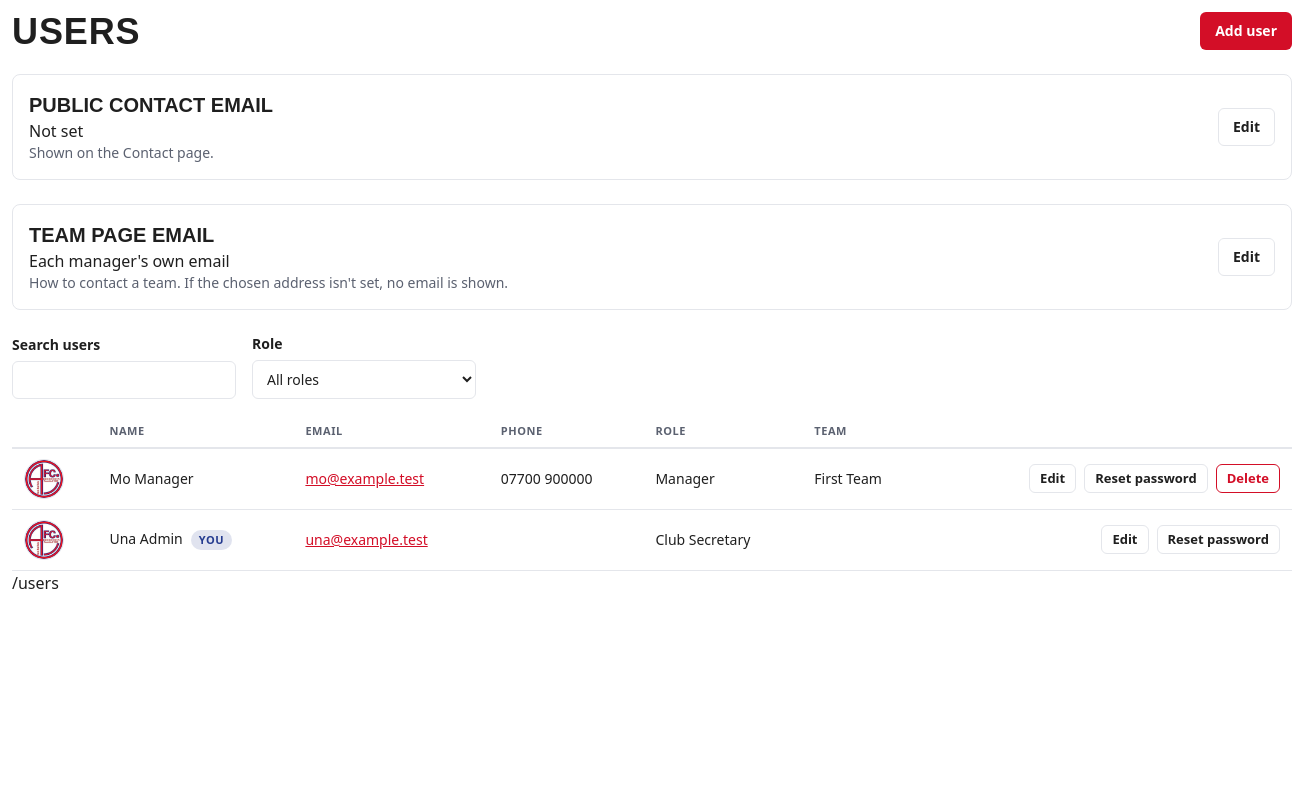
Scenario: UsersPage access and table › filters by role and search, kept in the address
expect the text "Mo Manager" is shown: met, box [110,469,194,488]
Select "Manager" in the dropdown labelled "Role" at (364, 380), box [252,360,476,399]
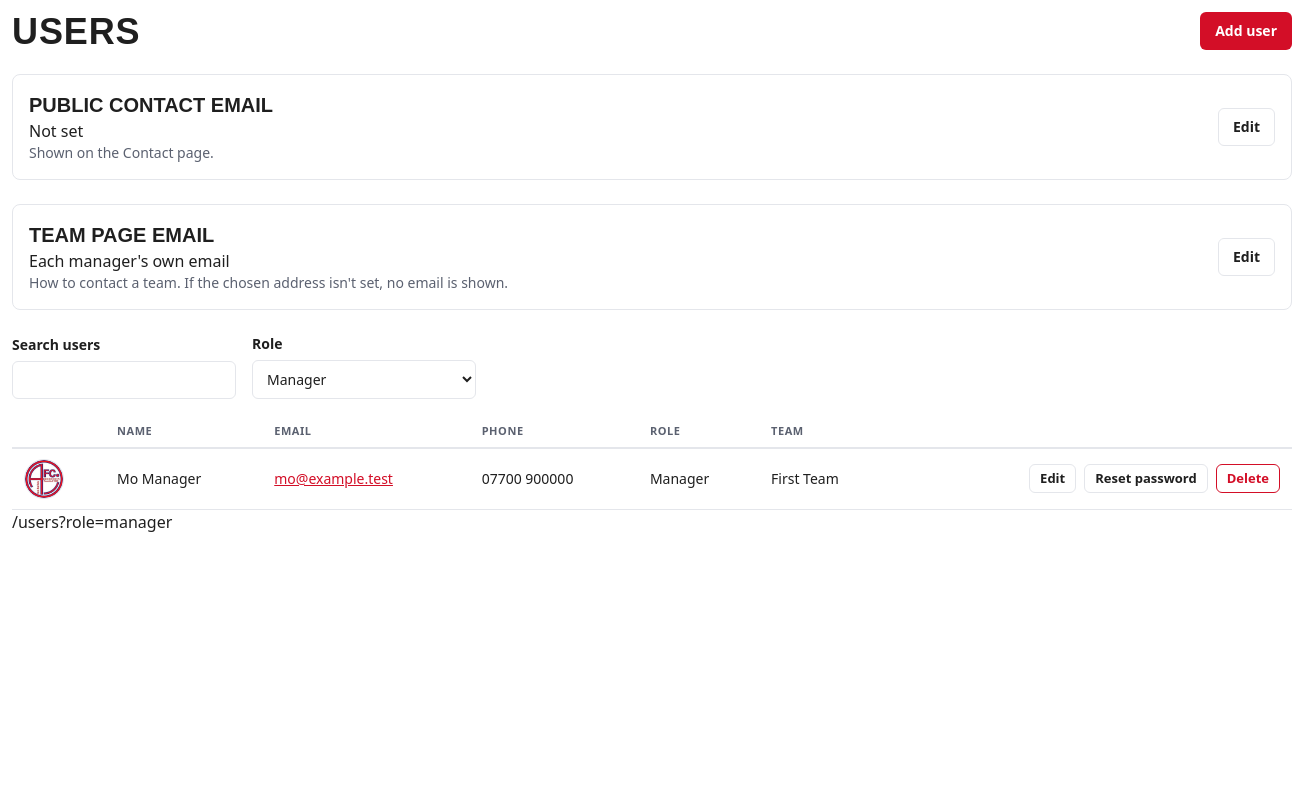
expect the text "Una Admin" is gone: met
expect the text with test id "location" shows "role=manager": met, box [12,511,172,533]
Type "zzz" into the search field labelled "Search users" at (124, 380), box [12,361,236,399]
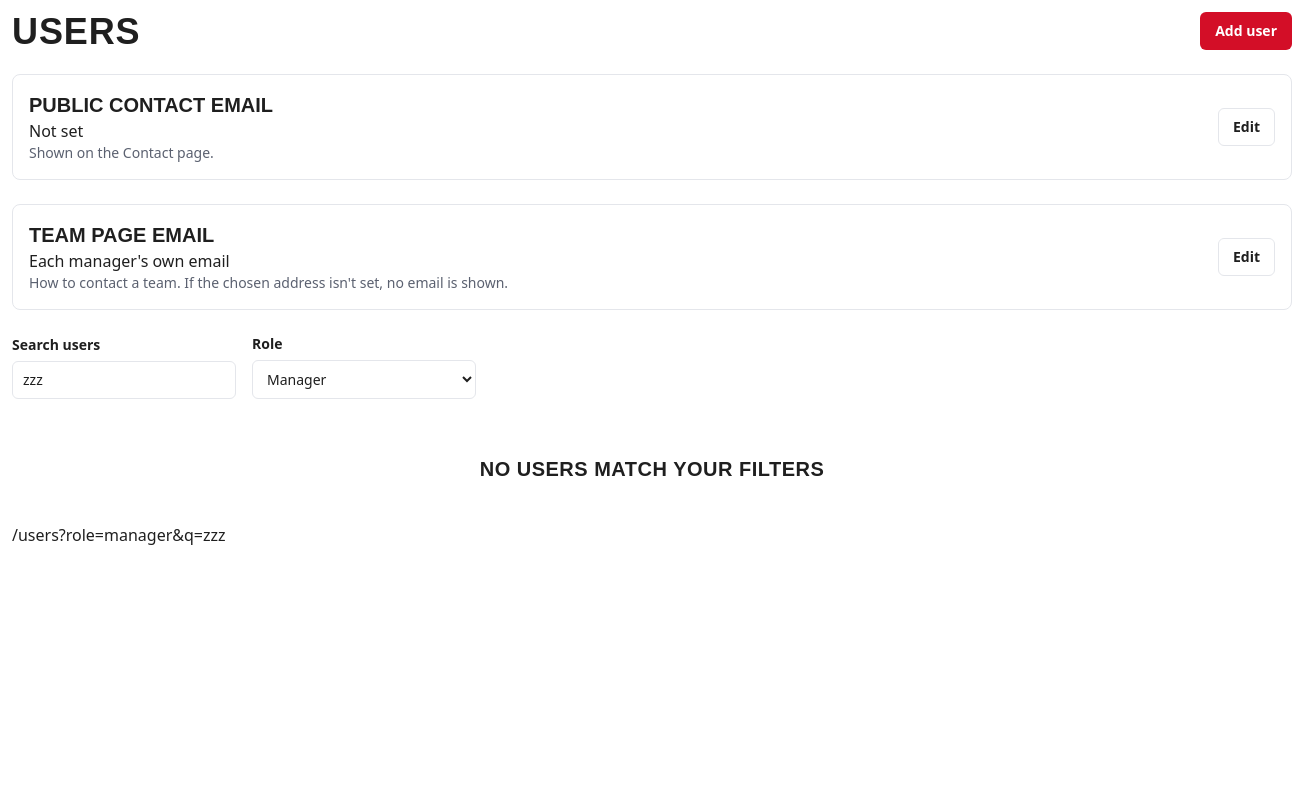
expect the text "No users match your filters" is shown: met, box [480,455,824,483]
